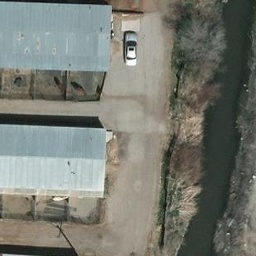car: (120, 33, 138, 66)
